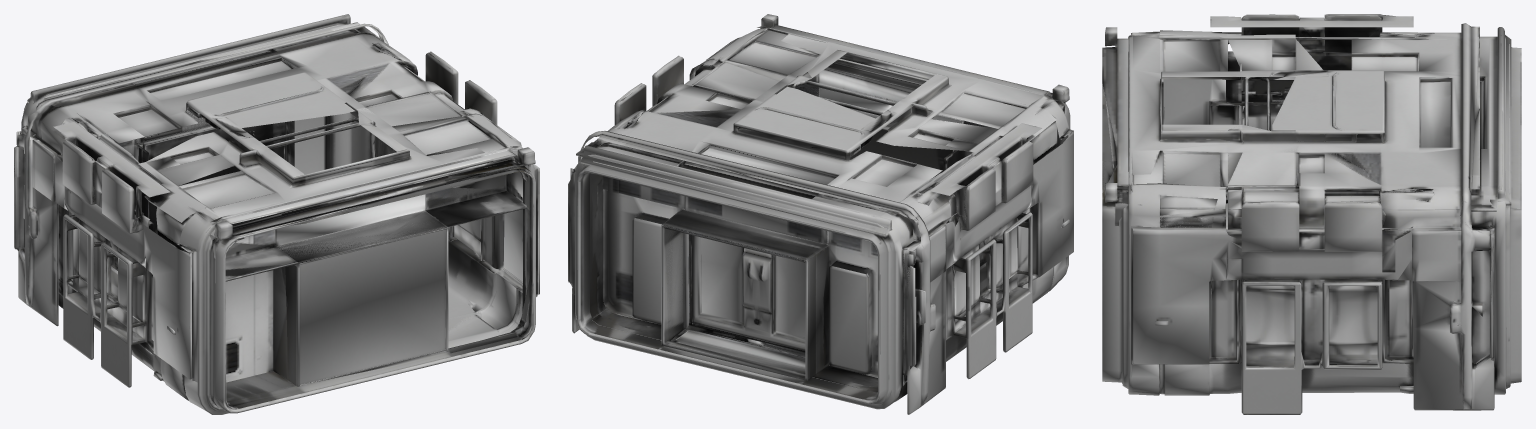
File: Cell.fbx
The picture shows the model from 3 angles, left to right: view 1: azimuth 30°, elevation 25°; view 2: azimuth 150°, elevation 25°; view 3: azimuth 270°, elevation 25°; orthographic projection. The views are drawn at different scales.
Parts seen in each view (by area): view 1: Mesh_0; view 2: Mesh_0; view 3: Mesh_0.
Boxes of the visible parts, x1,y1,x2,y2 form: Mesh_0: [14, 14, 539, 414]; Mesh_0: [568, 14, 1073, 414]; Mesh_0: [1102, 14, 1521, 414].
Bounding box in the file's own units: 184 × 100 × 171.
1 material, 1 textured.
